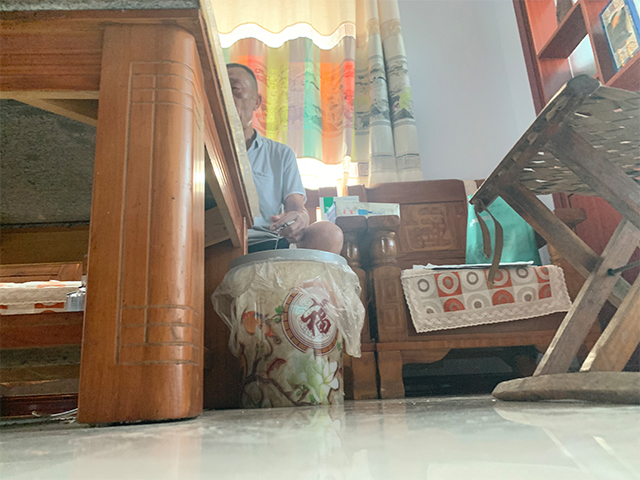sofa: (341, 175, 605, 400)
stool: (467, 72, 640, 407)
table: (1, 1, 261, 426)
trashcan: (226, 247, 351, 409)
